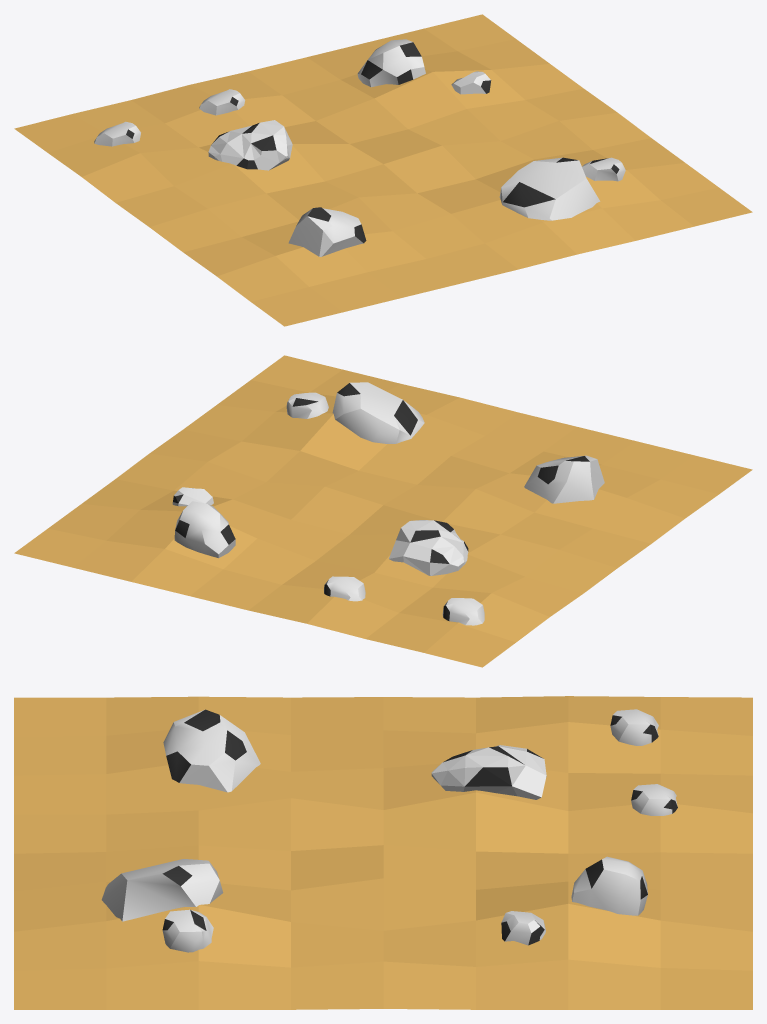
File: heheorebase.fbx
The picture shows the model from 3 angles, top to bottom: view 1: azimuth 30°, elevation 25°; view 2: azimuth 150°, elevation 25°; view 3: azimuth 270°, elevation 25°; orthographic projection. The views are drawn at different scales.
Parts seen in each view (by area): view 1: CatOre, Icosphere.007, Icosphere.001, Icosphere.002, Icosphere.006, Icosphere.004, Icosphere.003, Icosphere, Icosphere.005; view 2: CatOre, Icosphere.007, Icosphere.001, Icosphere.002, Icosphere.006, Icosphere, Icosphere.003, Icosphere.004, Icosphere.005; view 3: CatOre, Icosphere.002, Icosphere.007, Icosphere.001, Icosphere.006, Icosphere.003, Icosphere, Icosphere.004, Icosphere.005.
Part boxes in pixels (left/top/right/bottom): CatOre: left=14, top=14, right=752, bottom=326; Icosphere.007: left=499, top=157, right=600, bottom=220; Icosphere.001: left=208, top=120, right=292, bottom=170; Icosphere.002: left=288, top=207, right=366, bottom=256; Icosphere.006: left=357, top=39, right=425, bottom=87; Icosphere.004: left=199, top=89, right=245, bottom=115; Icosphere.003: left=582, top=157, right=625, bottom=181; Icosphere: left=94, top=121, right=140, bottom=146; Icosphere.005: left=451, top=71, right=491, bottom=94; CatOre: left=14, top=355, right=752, bottom=667; Icosphere.007: left=332, top=382, right=424, bottom=443; Icosphere.001: left=389, top=520, right=468, bottom=575; Icosphere.002: left=524, top=455, right=604, bottom=503; Icosphere.006: left=174, top=501, right=235, bottom=558; Icosphere: left=442, top=598, right=484, bottom=625; Icosphere.003: left=286, top=392, right=328, bottom=418; Icosphere.004: left=324, top=576, right=365, bottom=601; Icosphere.005: left=172, top=487, right=213, bottom=506; CatOre: left=14, top=696, right=752, bottom=1009; Icosphere.002: left=163, top=709, right=260, bottom=792; Icosphere.007: left=101, top=859, right=223, bottom=921; Icosphere.001: left=431, top=745, right=546, bottom=799; Icosphere.006: left=571, top=856, right=647, bottom=915; Icosphere.003: left=162, top=909, right=213, bottom=952; Icosphere: left=610, top=709, right=658, bottom=745; Icosphere.004: left=631, top=784, right=677, bottom=815; Icosphere.005: left=501, top=911, right=545, bottom=945.
Bounding box in the file's own units: 18.24 × 2.04 × 18.24.
